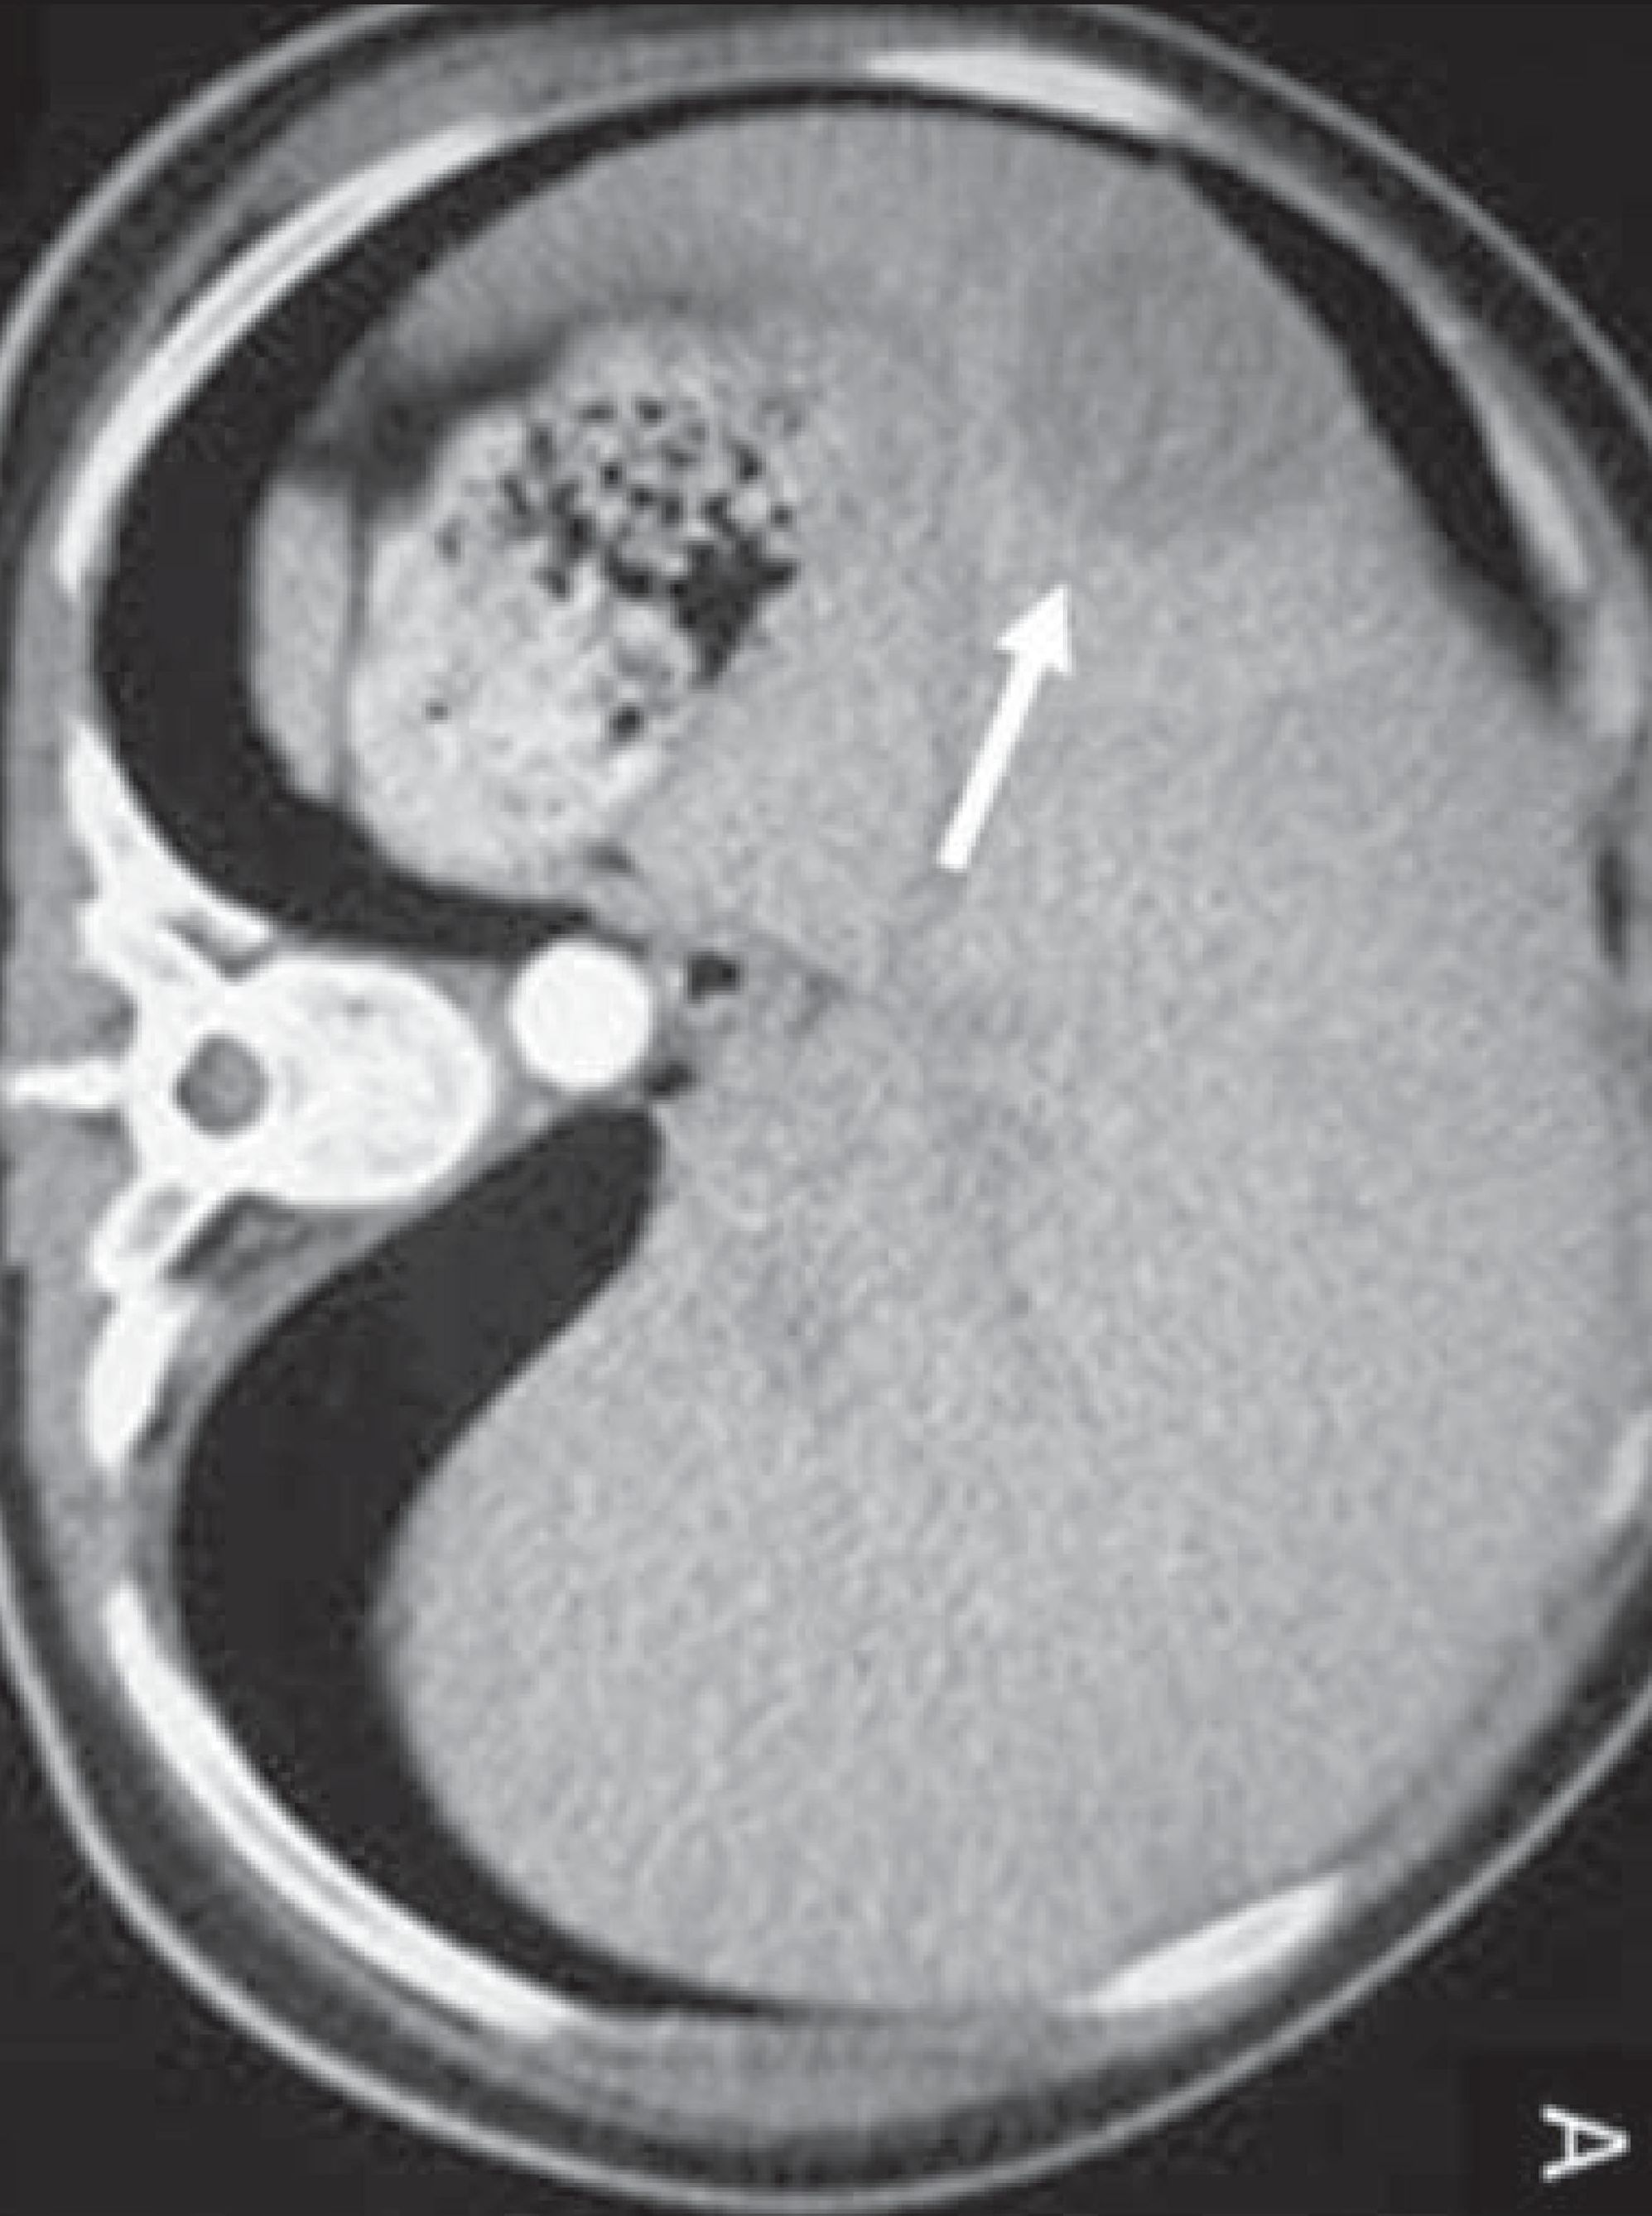anomaly: (980, 241, 1373, 600)
